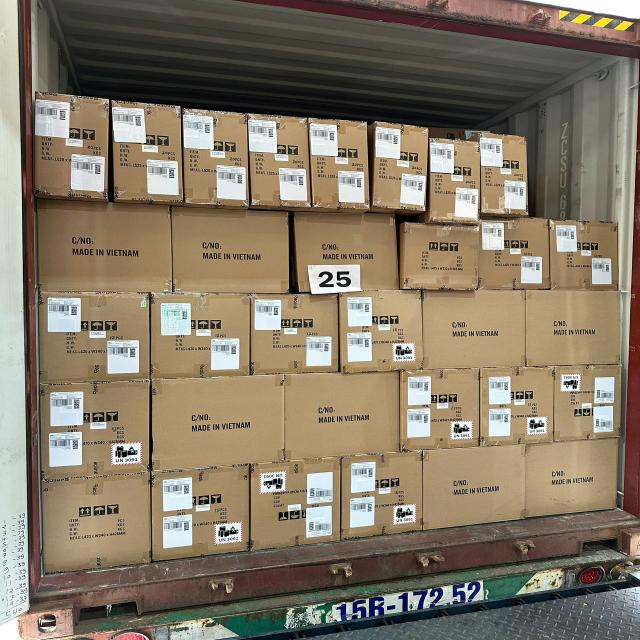Carton: (47, 391, 154, 568), (145, 375, 282, 471), (41, 206, 176, 298), (43, 288, 155, 382), (176, 212, 295, 299), (283, 371, 398, 461), (47, 479, 154, 575), (146, 472, 247, 566), (420, 442, 523, 526), (145, 291, 247, 375), (292, 216, 397, 297), (424, 293, 528, 371), (34, 93, 108, 201), (526, 291, 628, 368), (250, 459, 340, 546), (526, 442, 624, 520), (110, 100, 182, 203), (252, 295, 341, 376), (338, 456, 422, 539), (337, 293, 421, 375), (183, 108, 251, 209), (400, 371, 480, 452), (249, 115, 313, 209), (479, 368, 555, 447), (309, 122, 370, 216), (397, 220, 478, 290), (554, 363, 624, 442), (374, 124, 430, 218), (478, 216, 548, 289), (550, 218, 620, 290), (430, 139, 483, 225), (480, 135, 529, 219)
